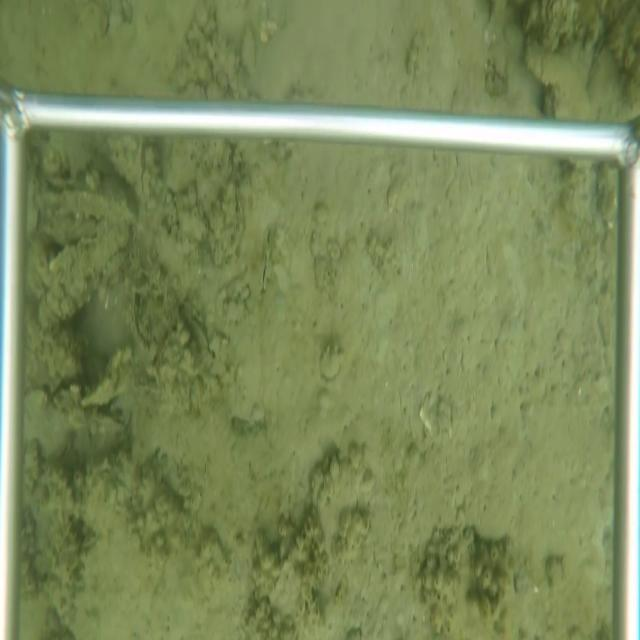Oyster-Closed: (132, 134, 151, 218), (256, 223, 274, 310), (186, 311, 211, 354)
Oyster-Indeterminate: (37, 226, 130, 333), (27, 390, 132, 471)
Oyster-Open: (38, 167, 95, 205)
